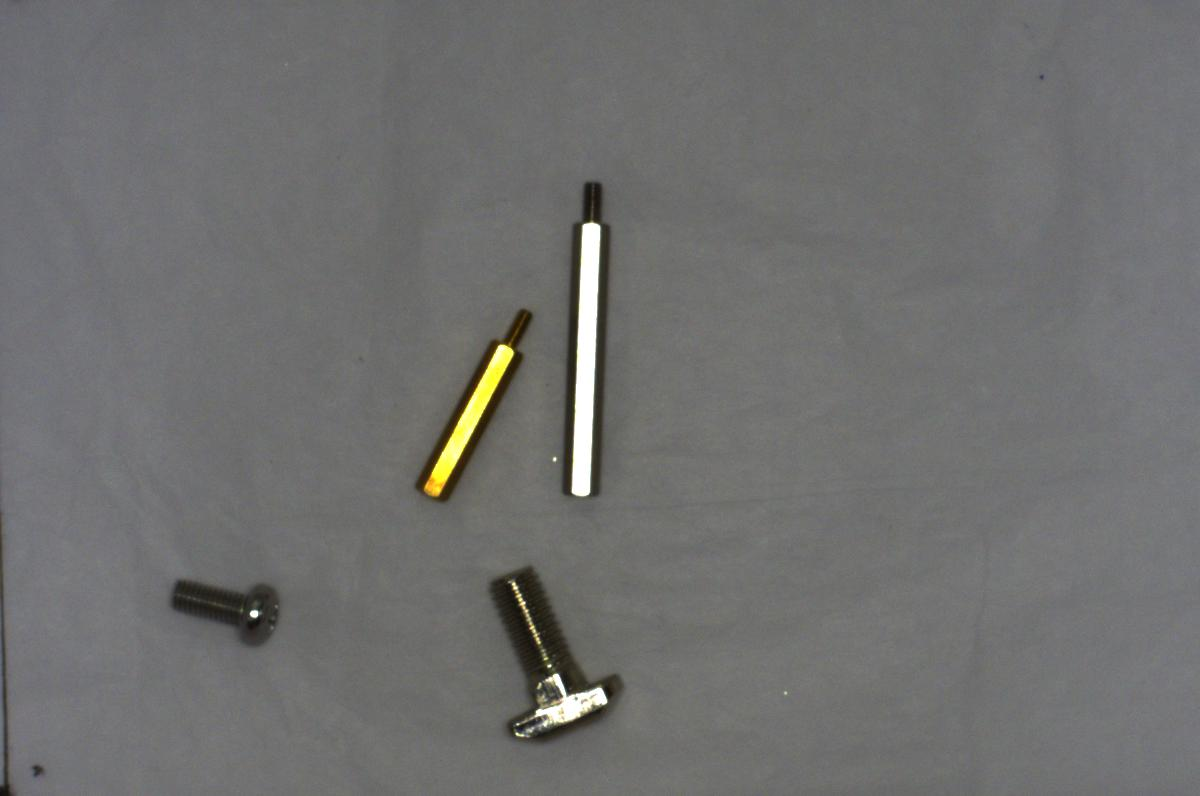Hexagon pillar: (405, 301, 531, 506)
Hexagonal steel column: (554, 170, 613, 506)
Round head screw: (157, 566, 294, 654)
T-shaped screw: (481, 550, 622, 746)
